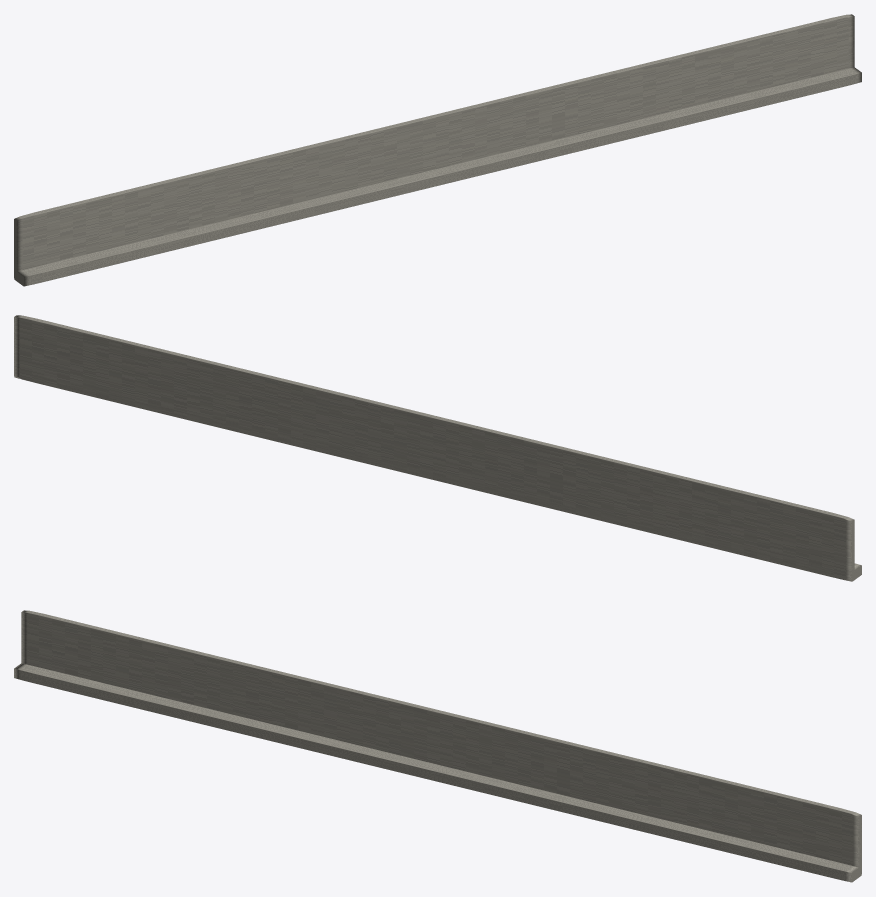
File: loose-base.glb
3 renders of one model, top to bottom at view 1: azimuth 30°, elevation 25°; view 2: azimuth 150°, elevation 25°; view 3: azimuth 330°, elevation 25°, orthographic.
Visible parts, largest first — view 1: web, return; view 2: web, return; view 3: web, return.
Boxes of the visible parts, bbox=[...] form: web: bbox=[14, 14, 854, 279]; return: bbox=[14, 67, 861, 286]; web: bbox=[14, 315, 854, 580]; return: bbox=[14, 374, 861, 581]; web: bbox=[21, 610, 861, 873]; return: bbox=[14, 663, 861, 882].
Size of the model in its own units: 1 by 0.071 by 0.021.
Materials: 1 (1 with a texture image).
